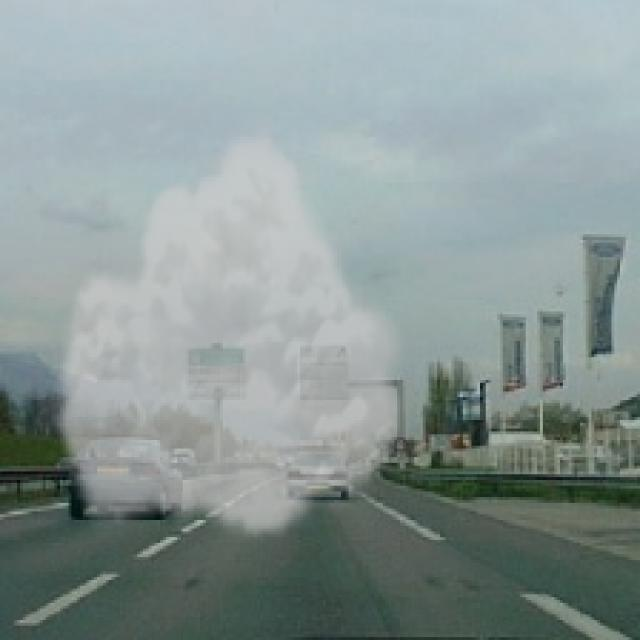smoke: (49, 123, 414, 543)
